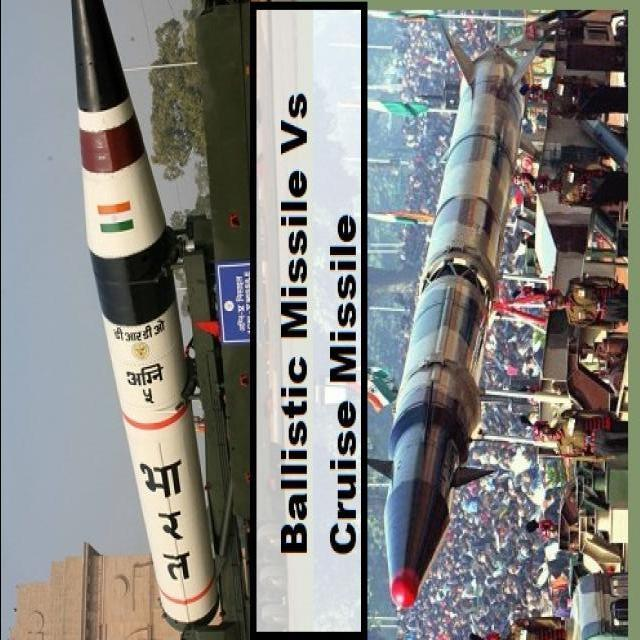missile: (59, 0, 214, 625), (374, 33, 520, 606)
